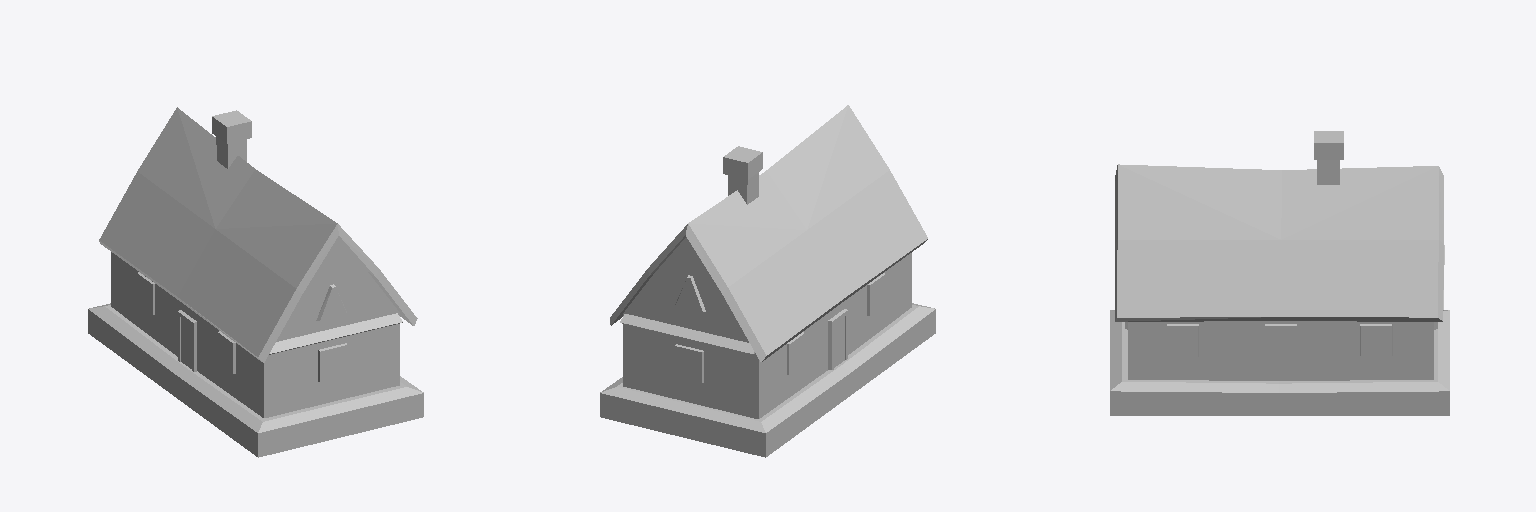
File: house2-03.obj
3 renders of one model, left to right at view 1: azimuth 30°, elevation 25°; view 2: azimuth 150°, elevation 25°; view 3: azimuth 270°, elevation 25°, orthographic.
Visible parts, largest first — view 1: default; view 2: default; view 3: default.
Part boxes in pixels (x1,y1,x2,y2): default: (88, 107, 423, 457); default: (600, 105, 935, 457); default: (1110, 131, 1449, 415).
Bounding box in the file's own units: 7.39 × 10.14 × 13.11.